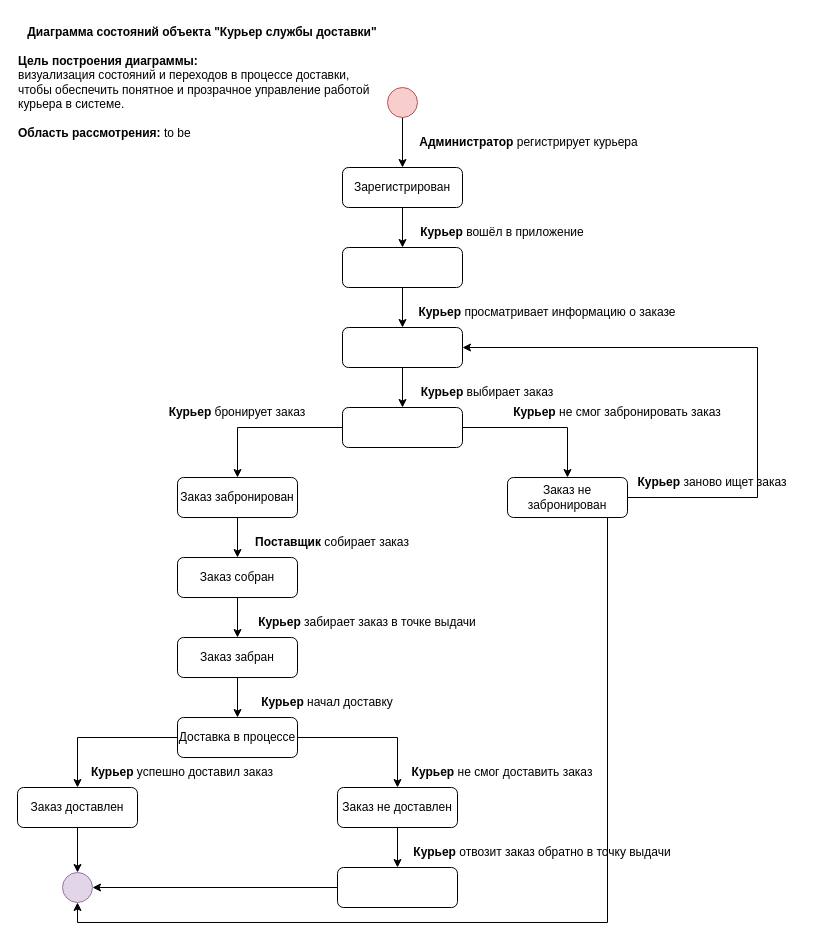
Image size: 835x948. Some labels were removed from this diagram. Here are the shapes that lost their labels. From the top down, the box of each, then its label:
(342, 246, 462, 288): Вошёл в систему
(342, 326, 462, 368): Информация о заказе
(342, 406, 462, 448): Выбран заказ
(336, 866, 458, 908): Возврат
